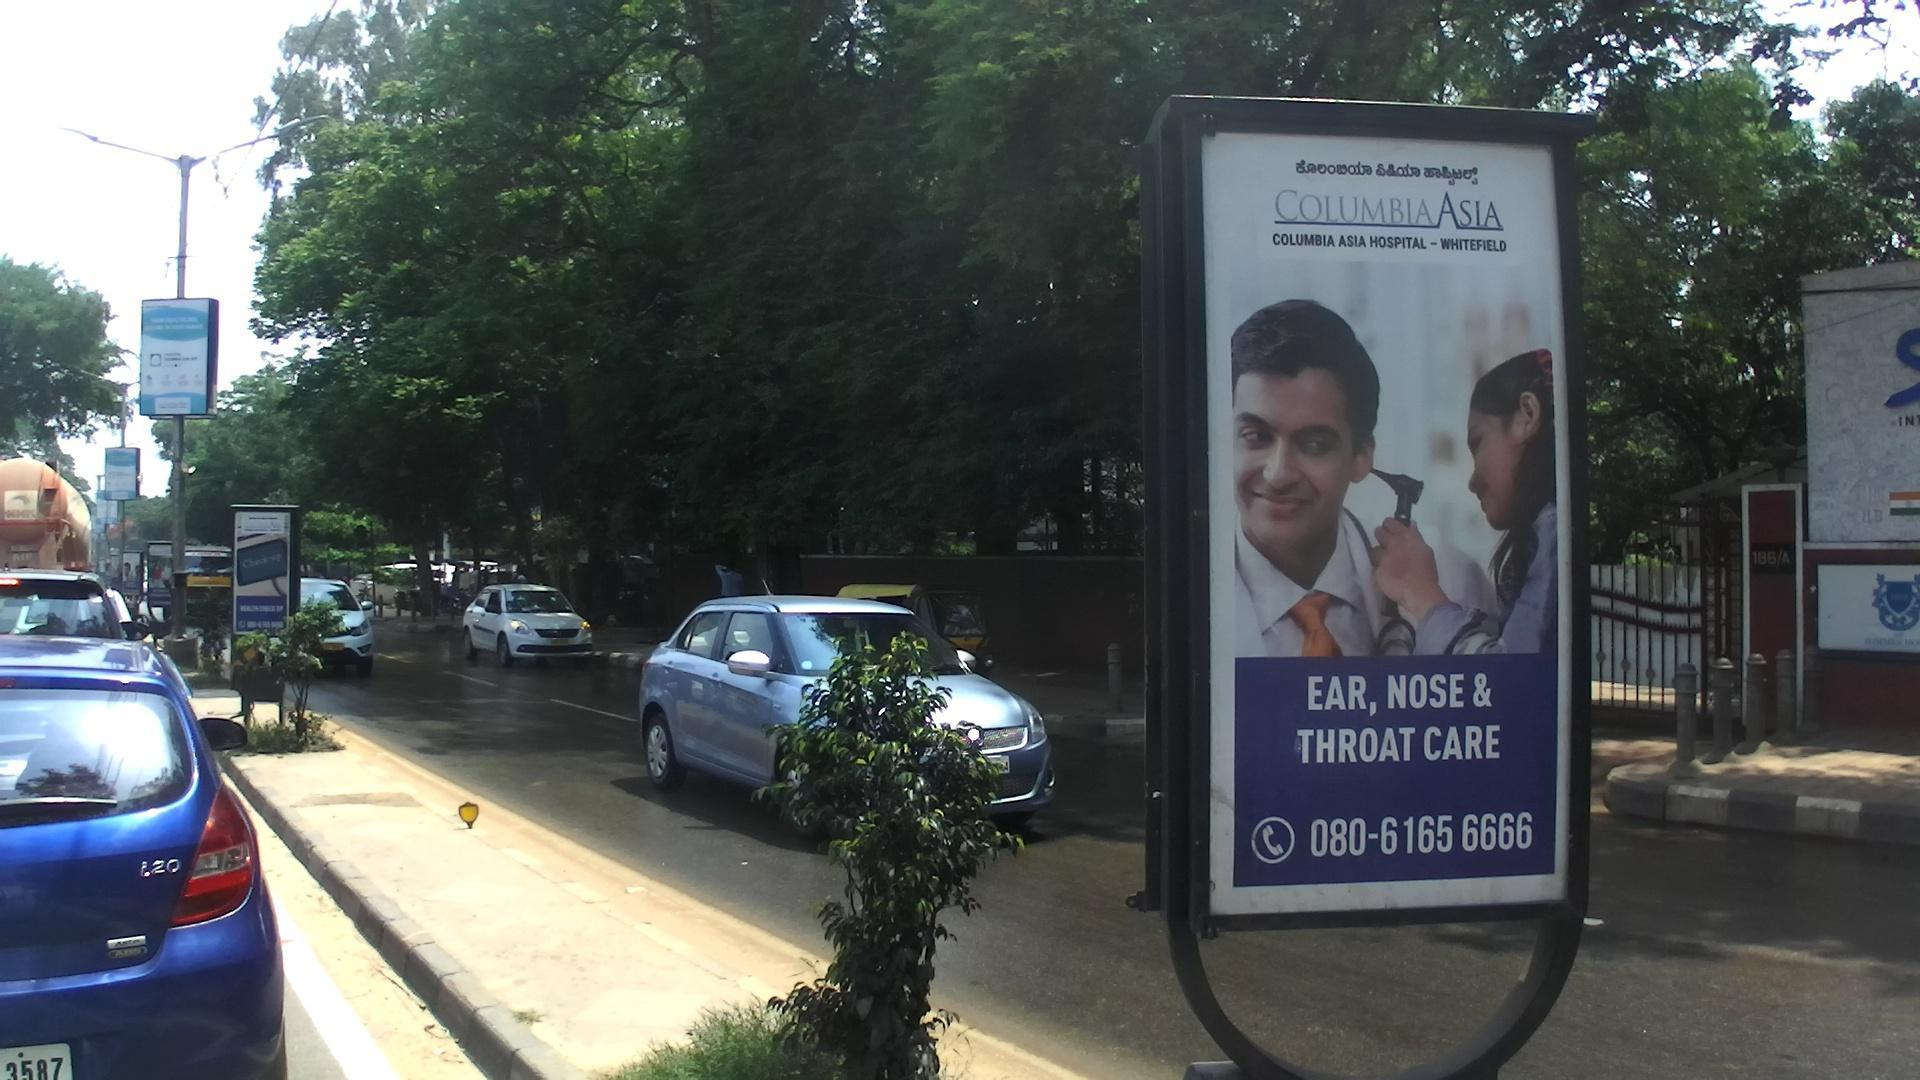off: (0, 32, 1311, 1080)
